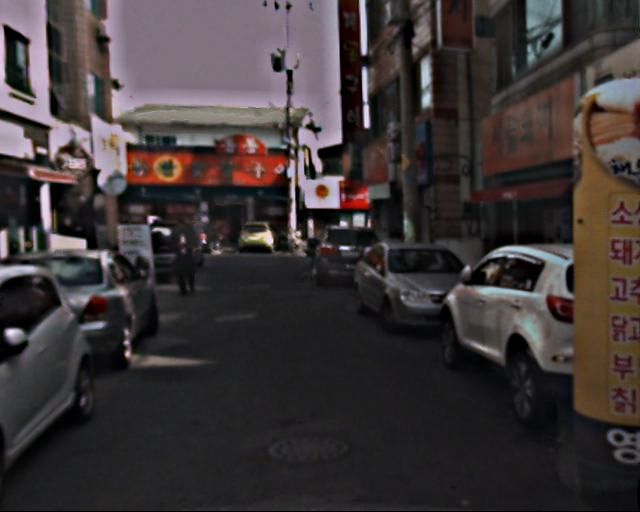person: (167, 217, 204, 297)
